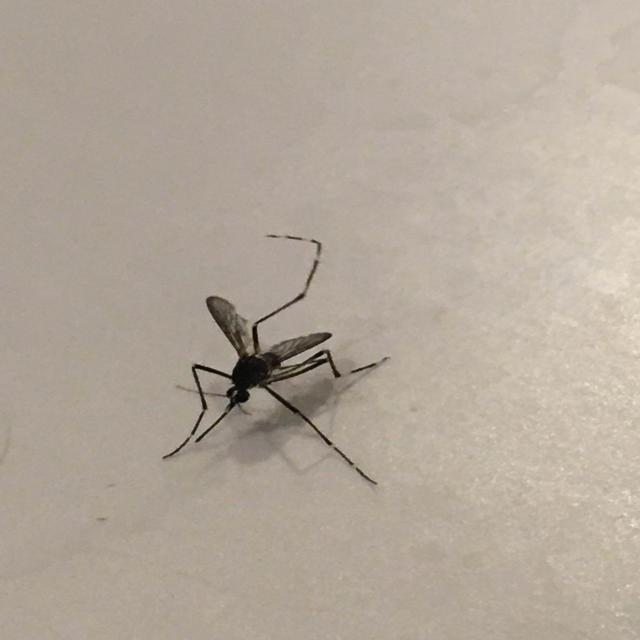albopictus: (155, 226, 397, 488)
